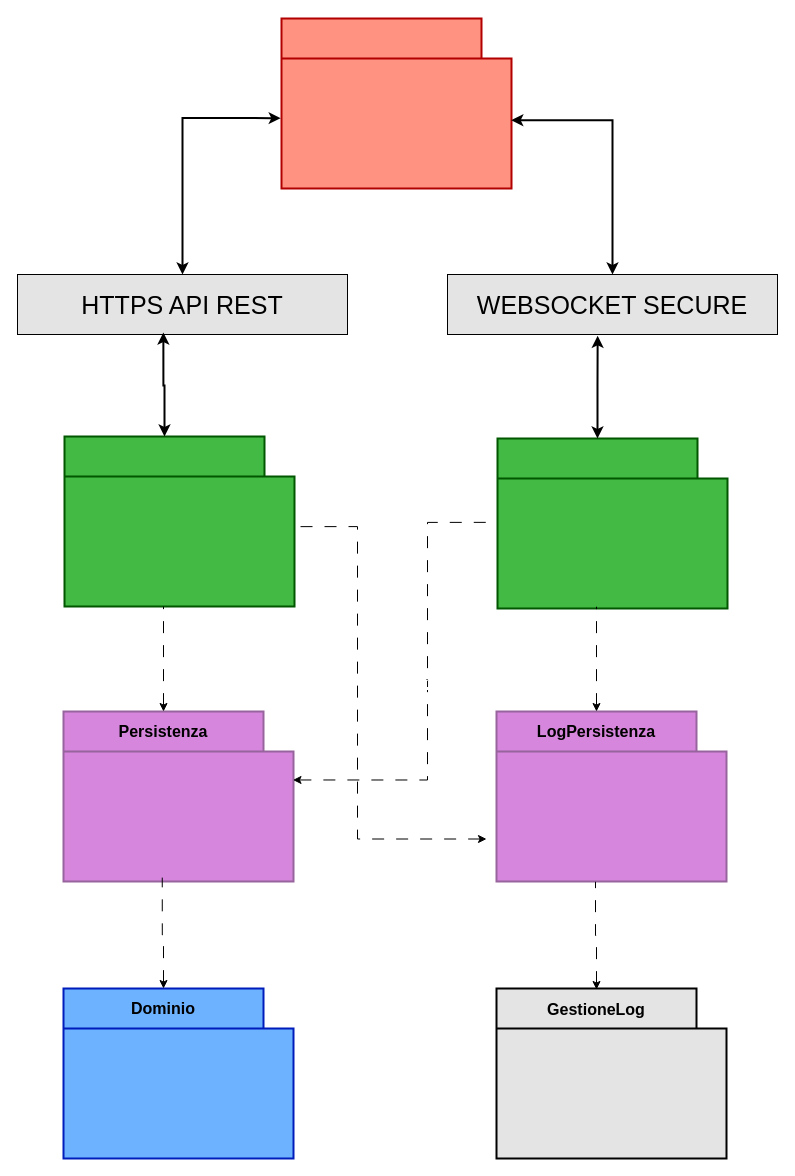
This 795x1176 diagram has some shape labels left out. Here are the shapes that lost their labels. From the top down, the centre of each, then its label:
the point at 396,103: ClientUtente
the point at 179,521: ServerUtente
the point at 612,523: ServerChat
